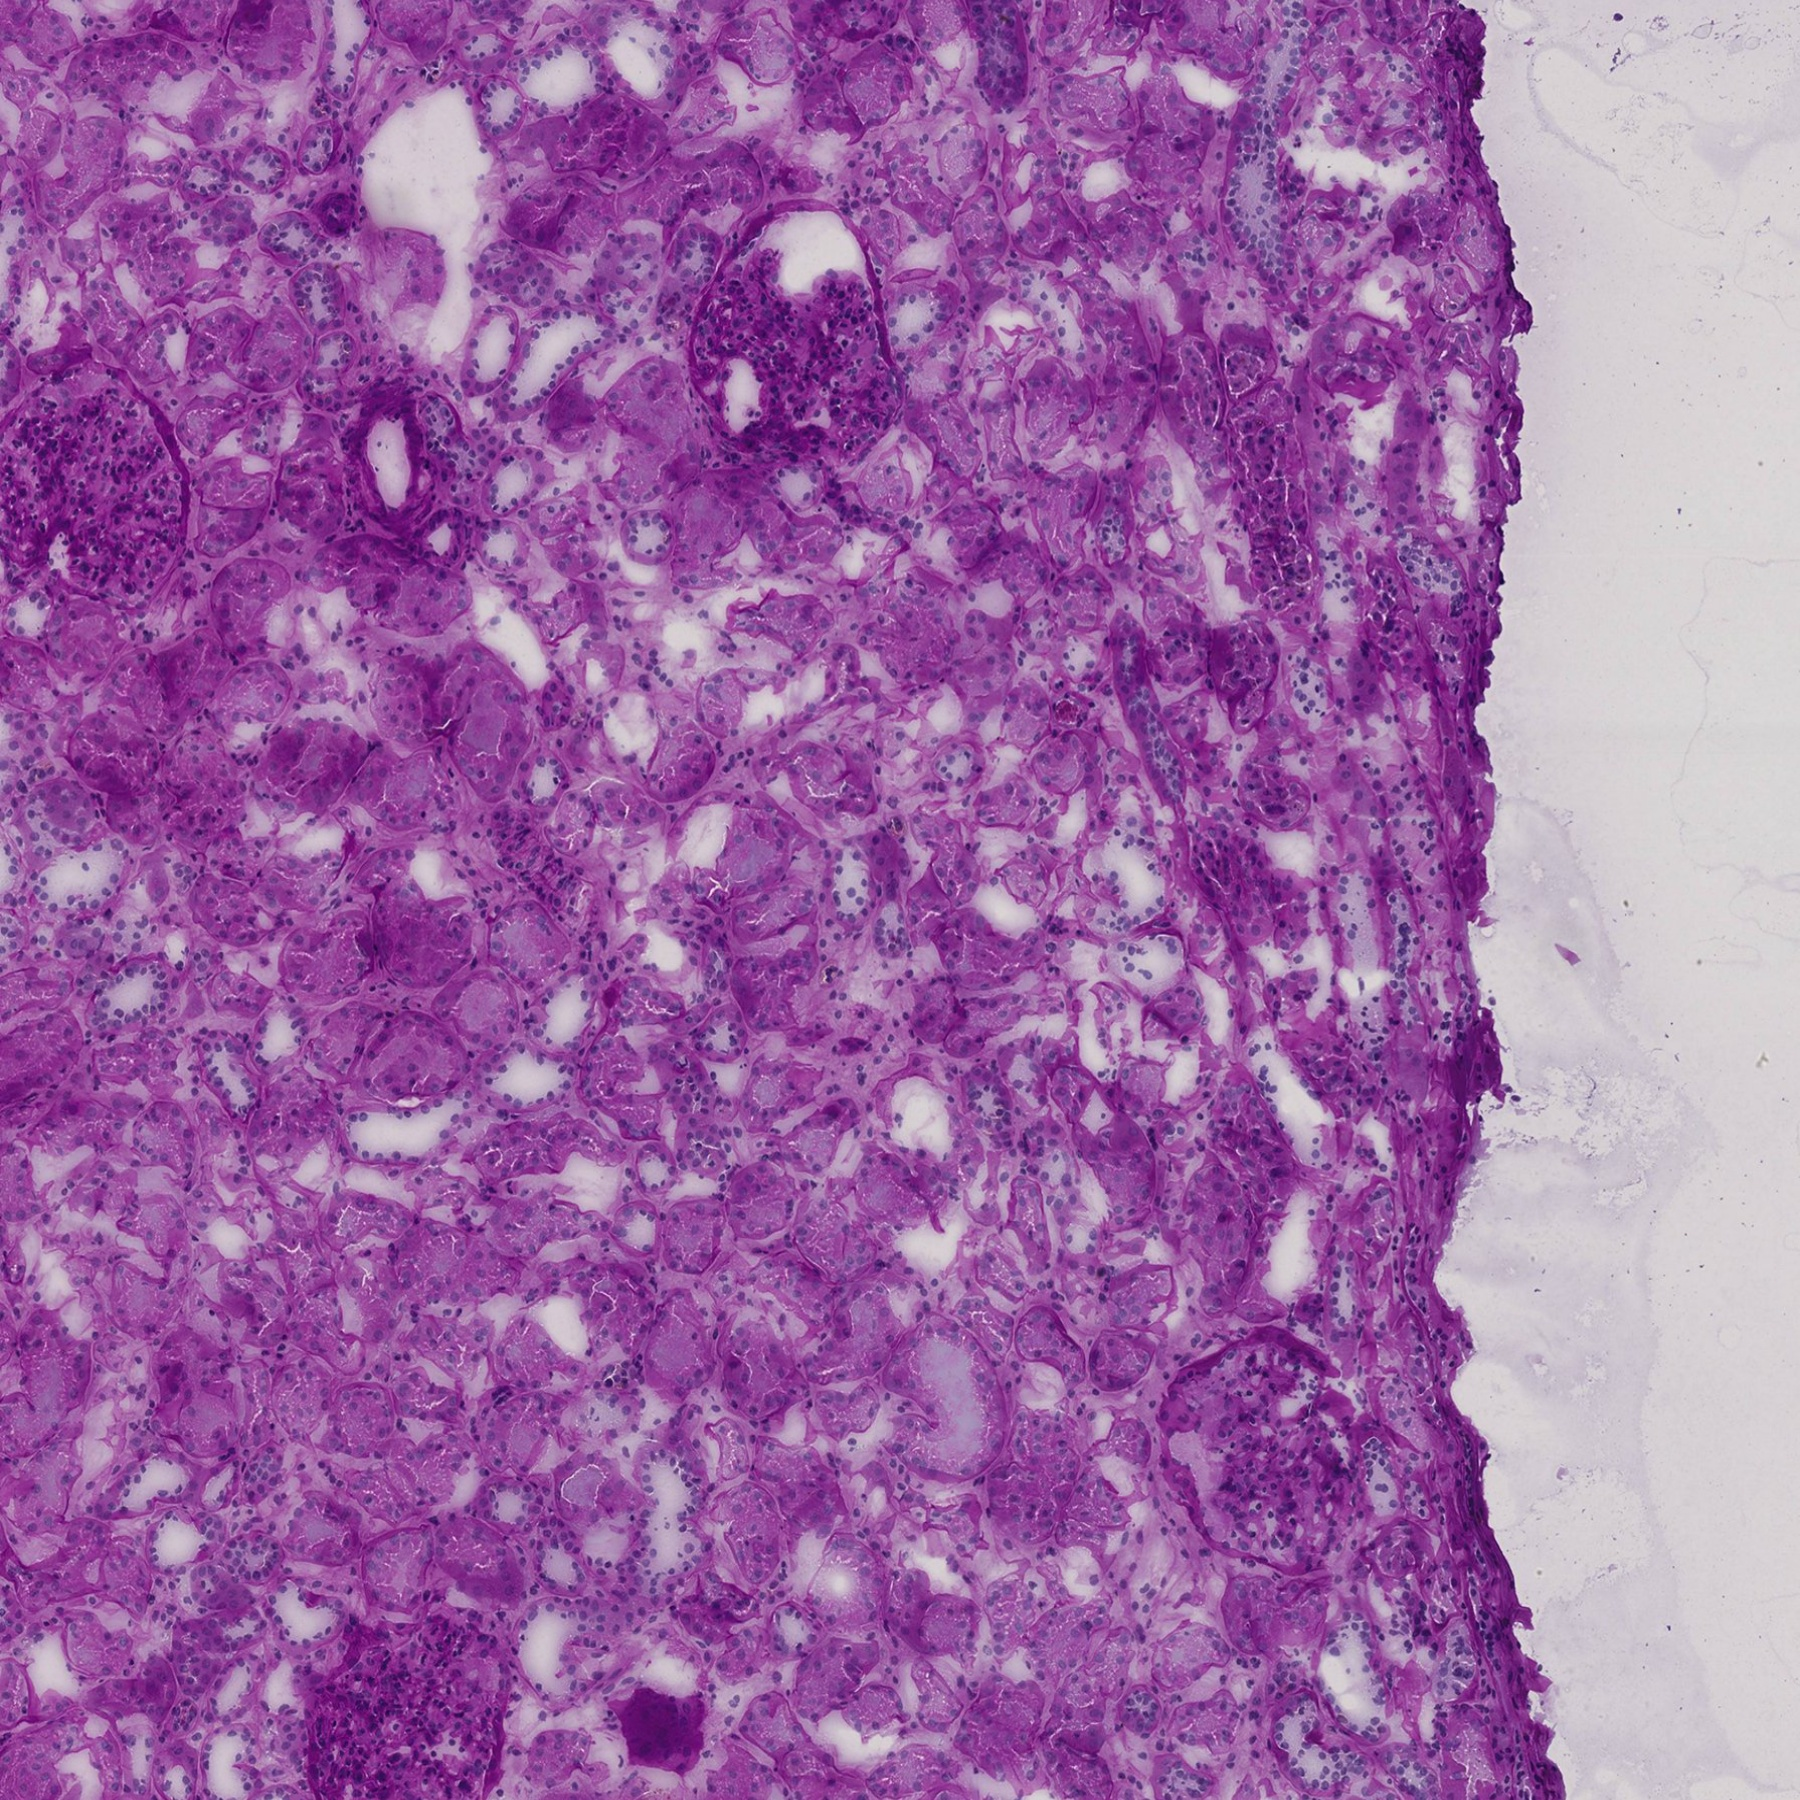Glomeruli: (681, 198, 908, 485), (1155, 1329, 1375, 1581), (2, 358, 198, 612), (307, 1629, 509, 1800)
